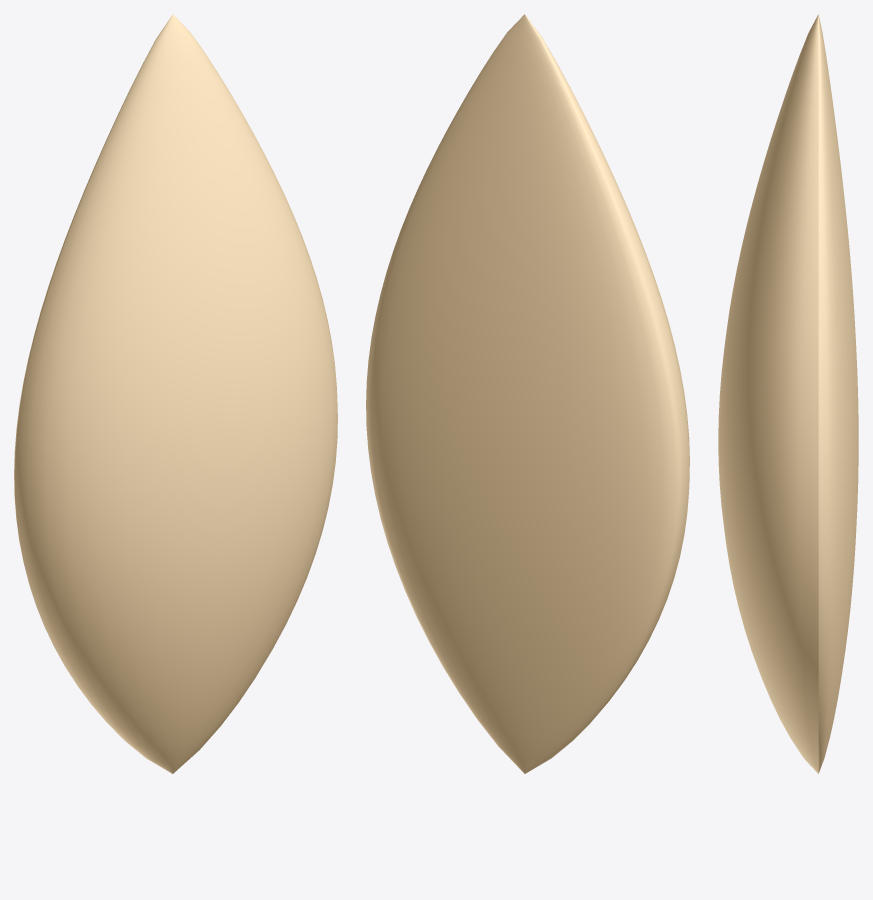
File: wax_drip_bead.glb
3 renders of one model, left to right at view 1: azimuth 30°, elevation 25°; view 2: azimuth 150°, elevation 25°; view 3: azimuth 270°, elevation 25°, orthographic.
Visible parts, largest first — view 1: wax_drip_bead; view 2: wax_drip_bead; view 3: wax_drip_bead.
Boxes of the visible parts, x1,y1,x2,y2 form: wax_drip_bead: (14, 14, 337, 773); wax_drip_bead: (366, 14, 689, 773); wax_drip_bead: (718, 14, 858, 773).
Size of the model in its own units: 0.00758 by 0.02 by 0.00292.
